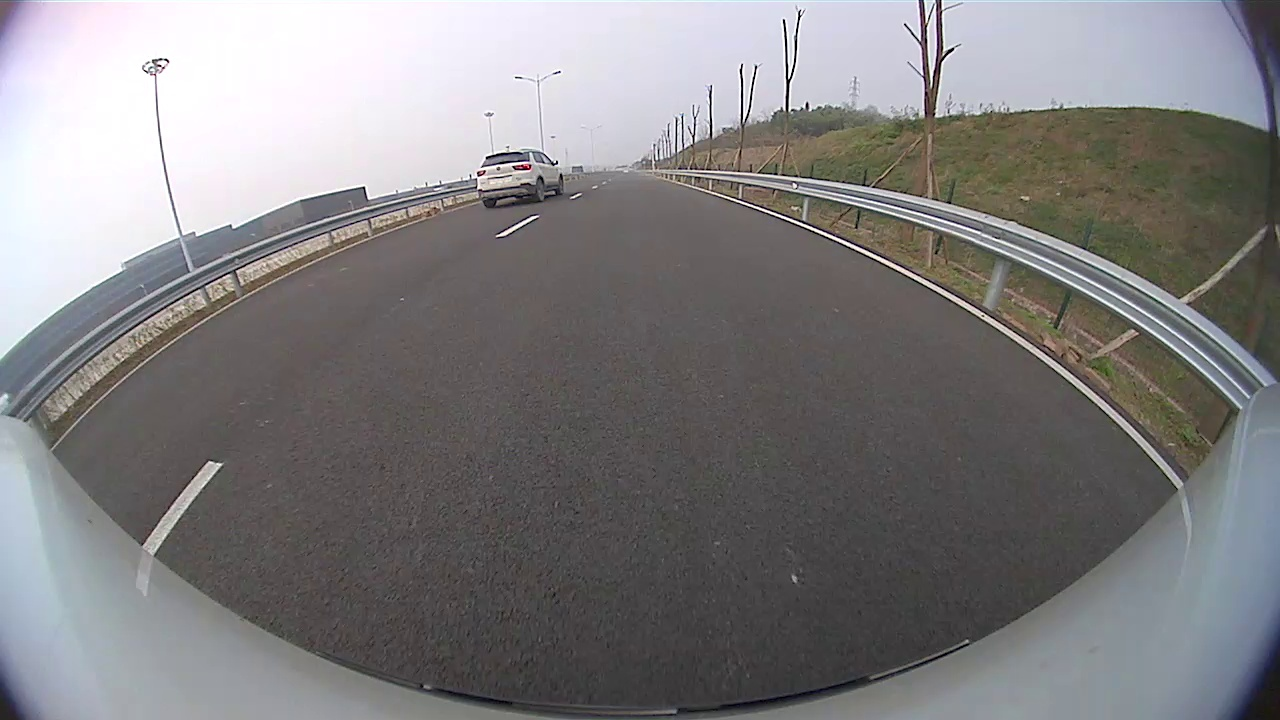car: (475, 148, 568, 210)
rear: (534, 177, 546, 202)
